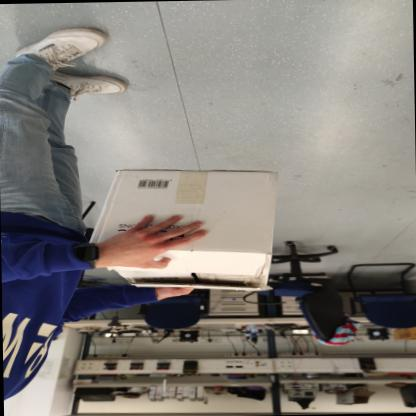box: (82, 159, 297, 303)
